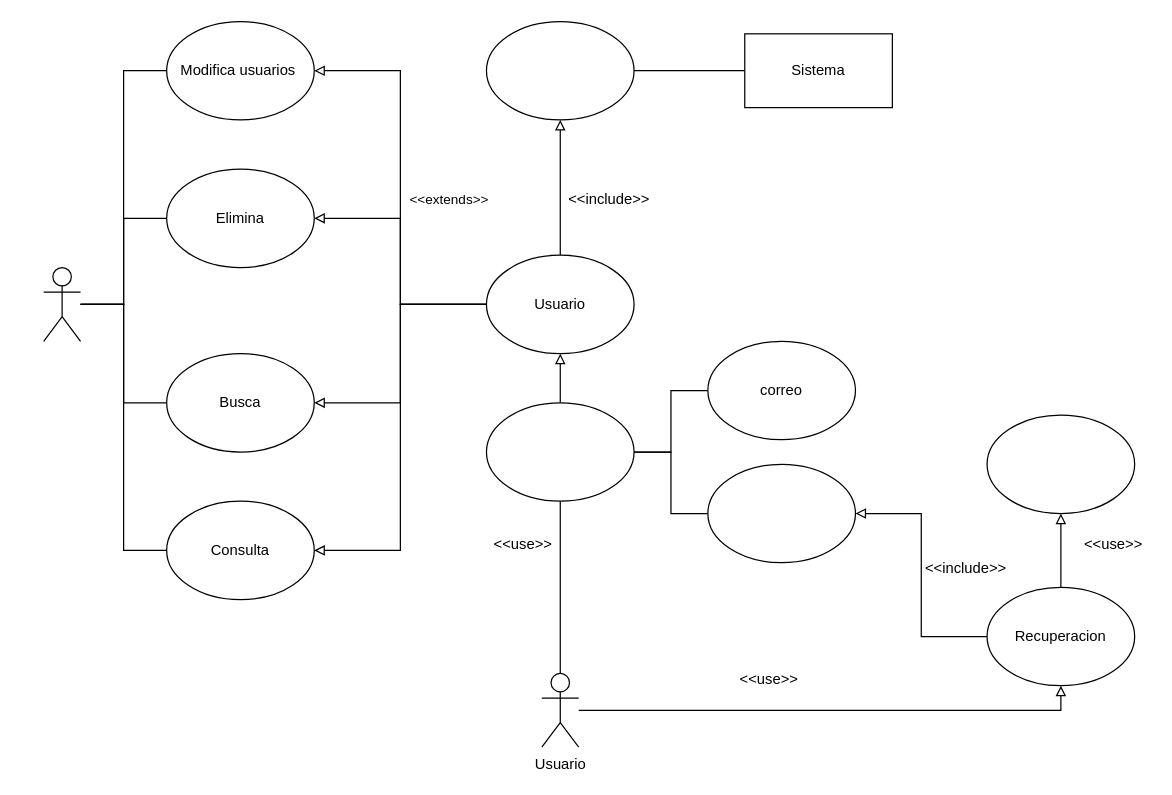
The diagram is 1172 pixels wide and 795 high, and some of its shapes have lost their labels. Each missing label, with the box of its shape:
Contraseña: (707, 463, 855, 563)
Crea usuario: (485, 402, 634, 501)
Inicio de sesion: (485, 20, 634, 120)
Organizador: (42, 266, 81, 341)
Via correo: (986, 414, 1135, 514)
